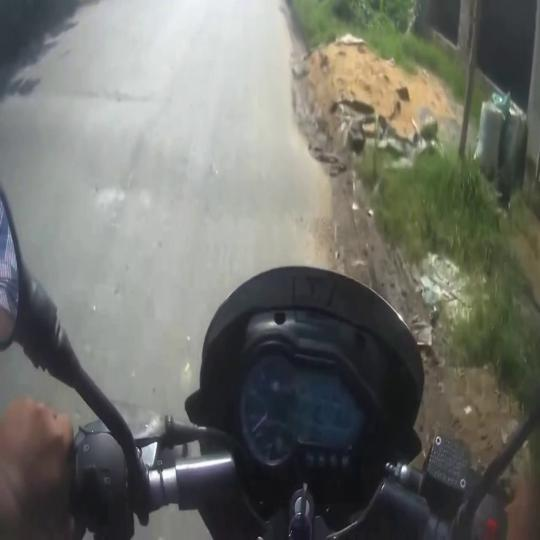Speed Bump: (3, 85, 328, 222)
